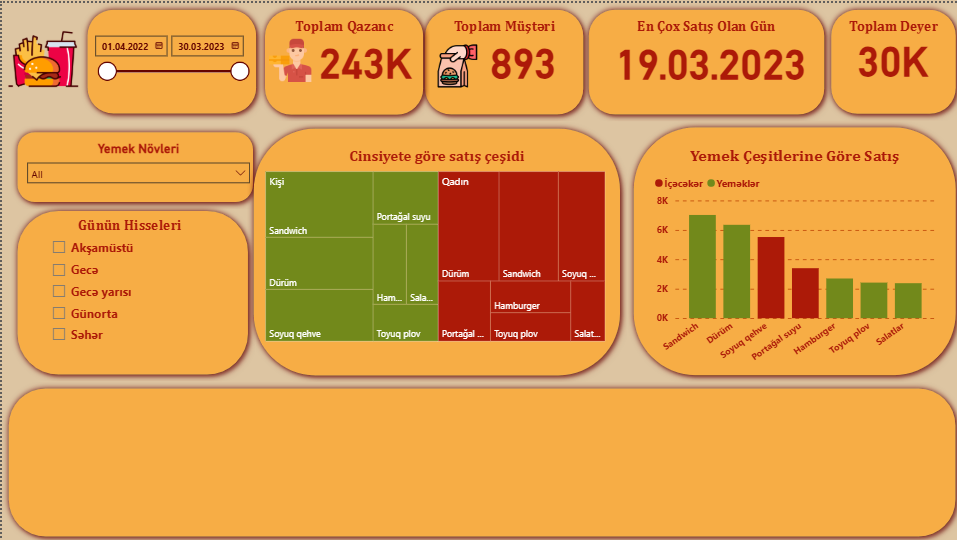

This screenshot's page, from the dashboard's own definition file:
{"tool":"powerbi","page":{"name":"Analis2","canvas":[1280,720],"ordinal":1},"visuals":[{"type":"shape","box":[1095.9,0,184.1,156.7],"z":0},{"type":"shape","box":[11,163.3,332.1,111.1],"z":1000},{"type":"shape","box":[11,269,325.2,236],"z":2000},{"type":"shape","box":[326.6,157.8,506.3,347.2],"z":3000},{"type":"shape","box":[772.6,0,332.1,157.8],"z":4000},{"type":"shape","box":[555.7,0,229.2,157.8],"z":5000},{"type":"shape","box":[832.9,156.4,447.3,348.5],"z":6000},{"type":"shape","box":[104.3,0,242.9,156.4],"z":7000},{"type":"shape","box":[340.8,0,228.9,158],"z":8000},{"type":"card","title":"Toplam Müşteri","fields":{"Values":["Balaji Fast Food Sales (1).Order_Count"]},"box":[627,52.2,136.8,67.2],"z":9000},{"type":"card","title":"Toplam Qazanc","fields":{"Values":["Balaji Fast Food Sales (1).Total Amount"]},"box":[413,49.4,142.7,70],"z":10000},{"type":"card","title":"En çox satış olan gün","fields":{"Values":["Balaji Fast Food Sales (1).Top Day"]},"box":[793.1,53.5,303.3,65.9],"z":11000},{"type":"slicer","fields":{"Values":["Balaji Fast Food Sales (1).date"]},"box":[111.1,32.9,226.4,86.4],"z":12000},{"type":"slicer","title":"Günün Hisseleri","fields":{"Values":["Balaji Fast Food Sales (1).time_of_sale"]},"box":[54.9,285.4,230.5,207.2],"z":13000},{"type":"card","title":"Toplam qiymet","fields":{"Values":["Balaji Fast Food Sales (1).Maxxprofitproduct"]},"box":[1100.5,50.8,175.6,64.5],"z":14000},{"type":"slicer","title":"Yemek Növleri","fields":{"Values":["Balaji Fast Food Sales (1).item_name"]},"box":[23.3,182.5,317,102.9],"z":15000},{"type":"image","box":[0,24.7,111.1,104.3],"z":16000},{"type":"image","box":[347.1,39.8,75.9,72.1],"z":17000},{"type":"image","box":[569.5,48,74.1,71.4],"z":18000},{"type":"columnChart","fields":{"Y":["Sum(Balaji Fast Food Sales (1).item_price)"],"Category":["Balaji Fast Food Sales (1).item_name"],"Series":["Balaji Fast Food Sales (1).item_type"]},"box":[864.5,219.6,385.6,277.2],"z":19000},{"type":"treemap","fields":{"Group":["Balaji Fast Food Sales (1).received_by"],"Values":["Sum(Balaji Fast Food Sales (1).item_price)"],"Details":["Balaji Fast Food Sales (1).item_name"]},"box":[347.2,219.6,462.4,236],"z":20000},{"type":"shape","box":[0,505,1280.3,215.4],"z":21000}]}

Visuals, with their boxes in screenshot pixels (x1, y1, x2, y2), scaled from the page's 1280x720 canvas onto the 957x540 screenshot:
shape: x1=819, y1=0, x2=956, y2=118
shape: x1=8, y1=122, x2=257, y2=206
shape: x1=8, y1=202, x2=251, y2=379
shape: x1=244, y1=118, x2=623, y2=379
shape: x1=578, y1=0, x2=826, y2=118
shape: x1=415, y1=0, x2=587, y2=118
shape: x1=623, y1=117, x2=956, y2=379
shape: x1=78, y1=0, x2=260, y2=117
shape: x1=255, y1=0, x2=426, y2=118
"Toplam Müşteri" card: x1=469, y1=39, x2=571, y2=90
"Toplam Qazanc" card: x1=309, y1=37, x2=415, y2=90
"En çox satış olan gün" card: x1=593, y1=40, x2=820, y2=90
slicer - Balaji Fast Food Sales (1).date: x1=83, y1=25, x2=252, y2=89
"Günün Hisseleri" slicer: x1=41, y1=214, x2=213, y2=369
"Toplam qiymet" card: x1=823, y1=38, x2=954, y2=86
"Yemek Növleri" slicer: x1=17, y1=137, x2=254, y2=214
image: x1=0, y1=19, x2=83, y2=97
image: x1=260, y1=30, x2=316, y2=84
image: x1=426, y1=36, x2=481, y2=90
columnChart - Sum(Balaji Fast Food Sales (1).item_price) x Balaji Fast Food Sales (1).item_name: x1=646, y1=165, x2=935, y2=373
treemap - Balaji Fast Food Sales (1).received_by x Sum(Balaji Fast Food Sales (1).item_price): x1=260, y1=165, x2=605, y2=342
shape: x1=0, y1=379, x2=956, y2=539
